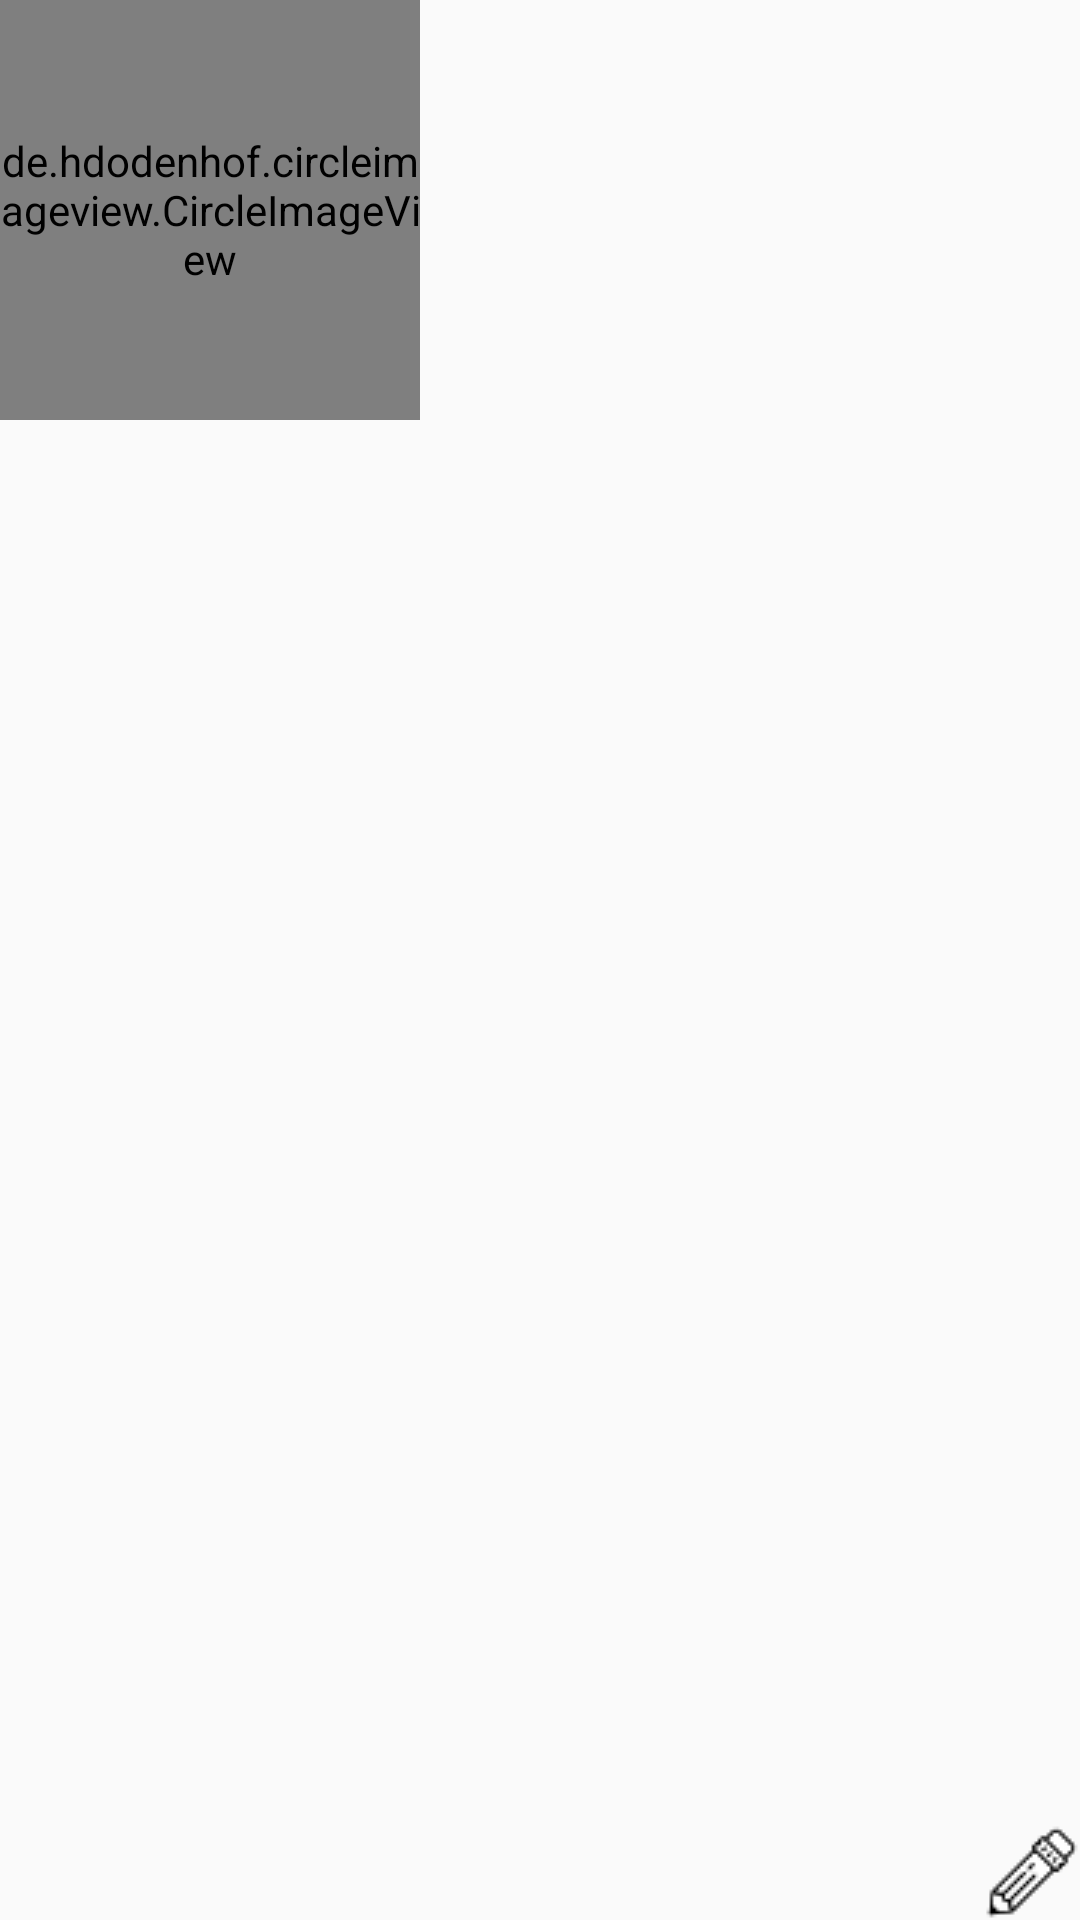

Where to tap for icons on this 1080×1920 app screen, as [x,y]:
edit: [1031,1873]
